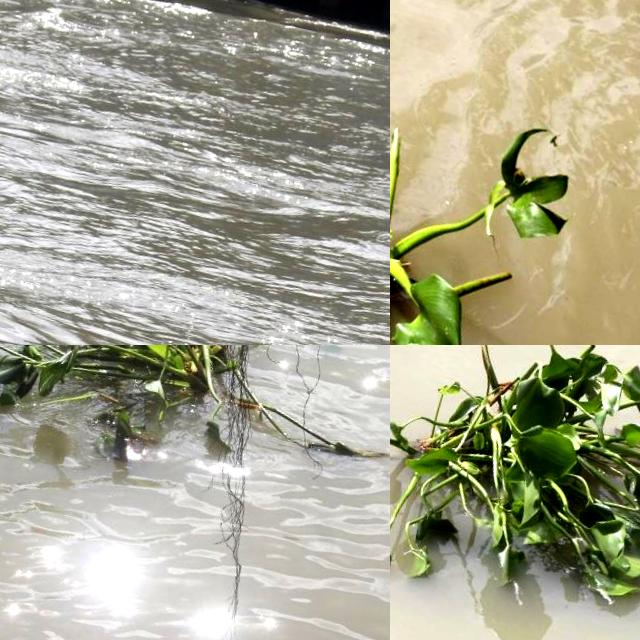water-hyacinth: (391, 41, 640, 346), (391, 346, 640, 640), (1, 346, 267, 490)
